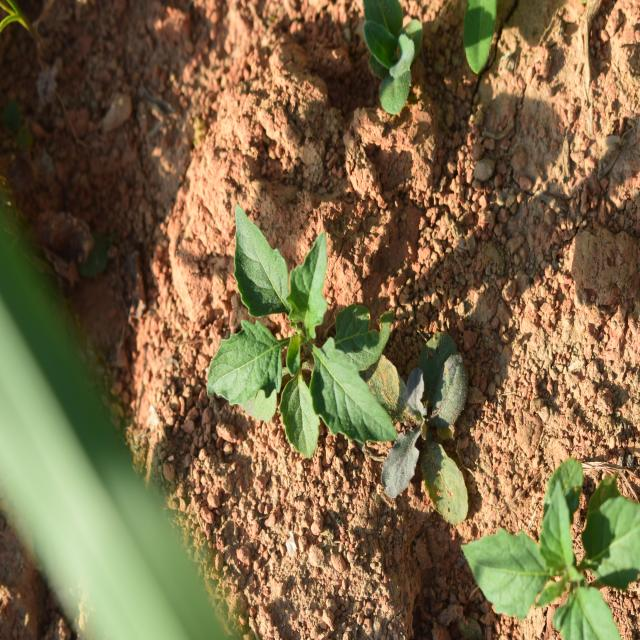Black_nightshade: (206, 217, 395, 462)
